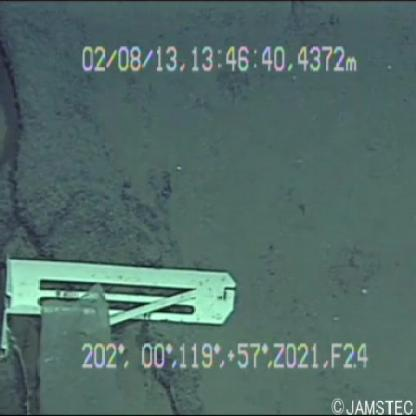Rác: (1, 234, 287, 352)
